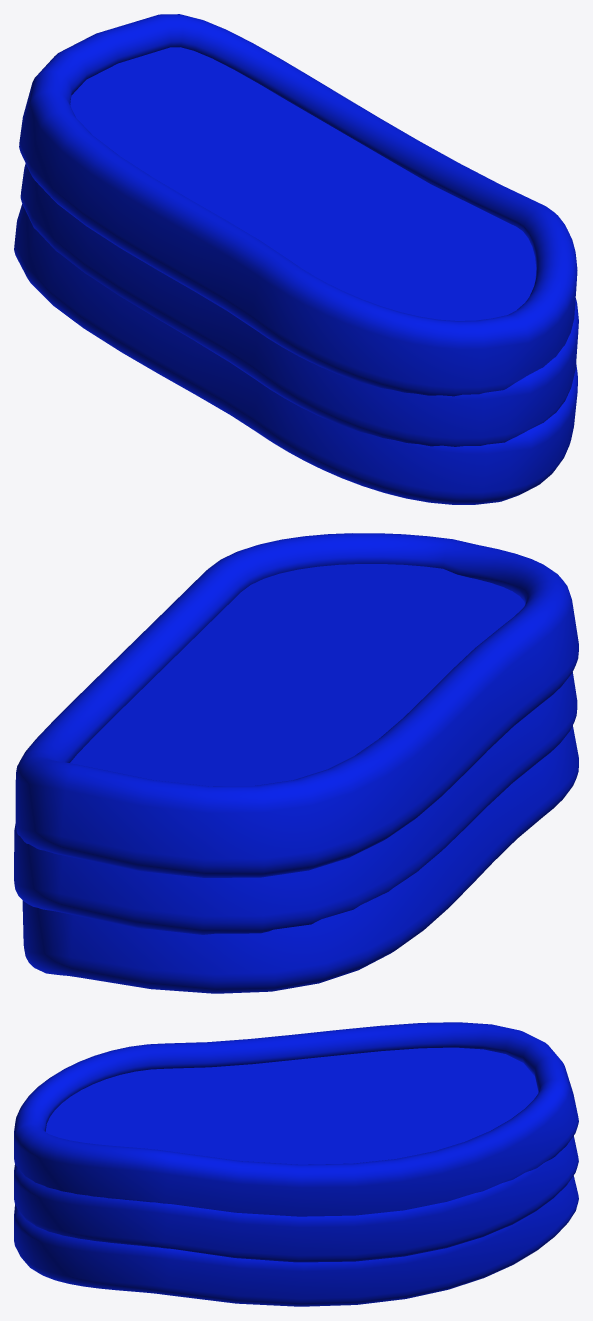
The model's file is pool.glb.
3 views of the same model, one above another, from view 1: azimuth 30°, elevation 25°; view 2: azimuth 150°, elevation 25°; view 3: azimuth 270°, elevation 25° (orthographic). The views are drawn at different scales.
Visible parts, largest first — view 1: BezierCircle, BezierCircle.002, BezierCircle.001; view 2: BezierCircle, BezierCircle.002, BezierCircle.001; view 3: BezierCircle, BezierCircle.001, BezierCircle.002.
Boxes of the visible parts, x1,y1,x2,y2 form: BezierCircle: [19, 14, 577, 396]; BezierCircle.002: [14, 204, 577, 504]; BezierCircle.001: [20, 163, 578, 446]; BezierCircle: [15, 533, 578, 877]; BezierCircle.002: [22, 725, 578, 993]; BezierCircle.001: [14, 672, 577, 934]; BezierCircle: [14, 1022, 578, 1216]; BezierCircle.001: [14, 1136, 578, 1262]; BezierCircle.002: [14, 1175, 578, 1306].
Bounding box in the file's own units: 3.83 × 2.56 × 7.12.
